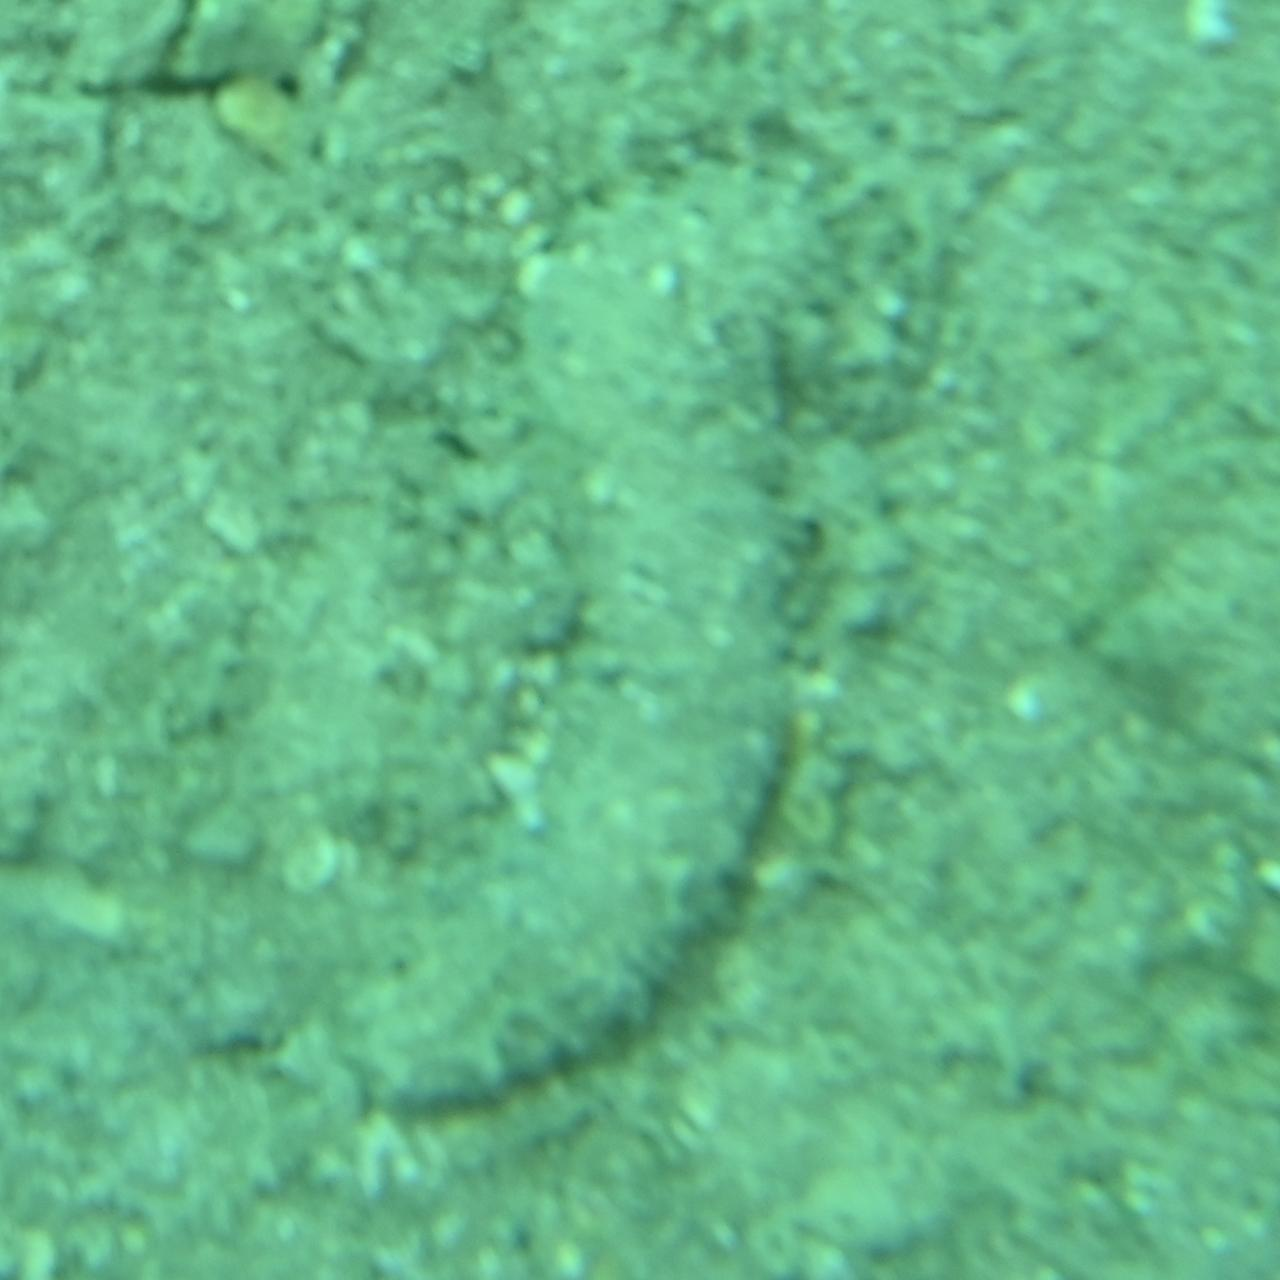Holothuria tubulosa: (345, 160, 935, 1120)
